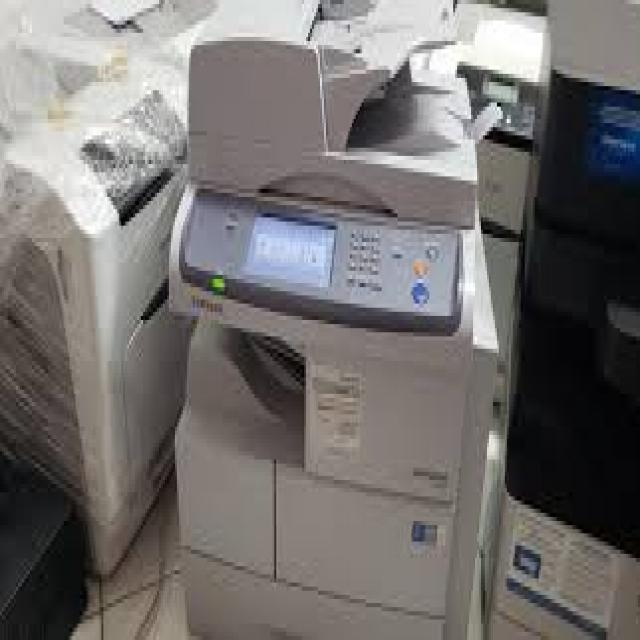printer: (175, 14, 500, 640), (2, 30, 186, 582), (498, 2, 640, 640), (454, 10, 544, 238)
